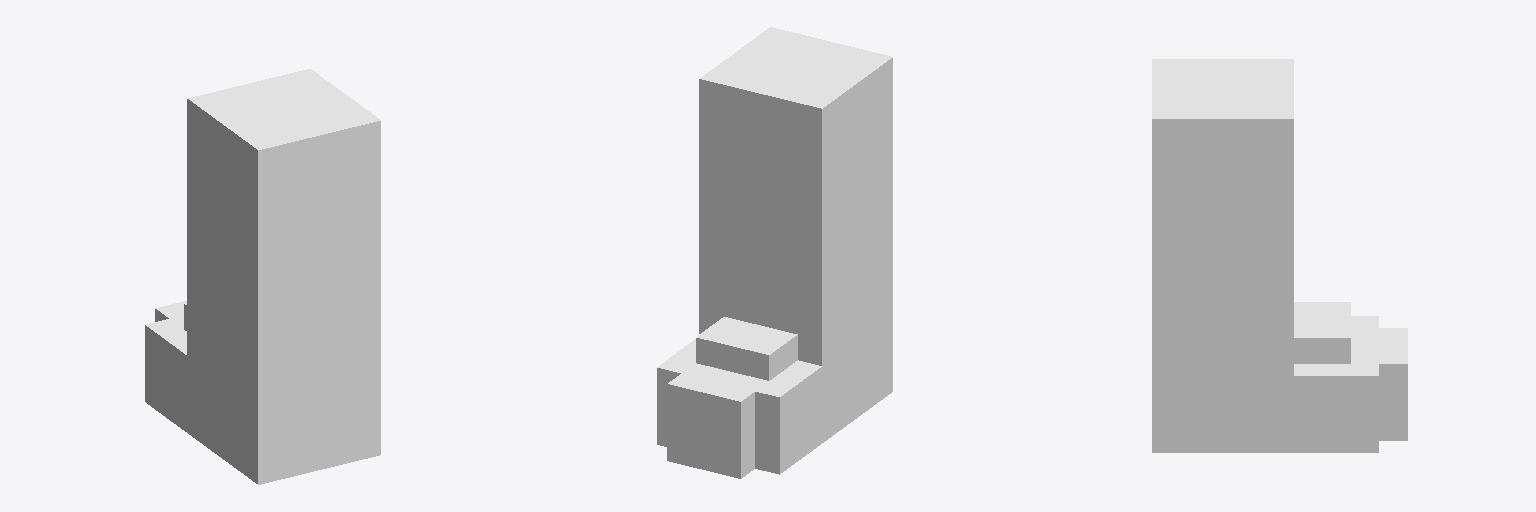
Rendered from Heroes-2.obj.
3 renders of one model, left to right at view 1: azimuth 30°, elevation 25°; view 2: azimuth 150°, elevation 25°; view 3: azimuth 270°, elevation 25°, orthographic.
Visible parts, largest first — view 1: object 1; view 2: object 1; view 3: object 1.
Boxes of the visible parts, x1,y1,x2,y2 form: object 1: [145, 69, 380, 484]; object 1: [657, 27, 892, 478]; object 1: [1152, 59, 1407, 452].
Bounding box in the file's own units: 0.5 × 1.3 × 0.9.